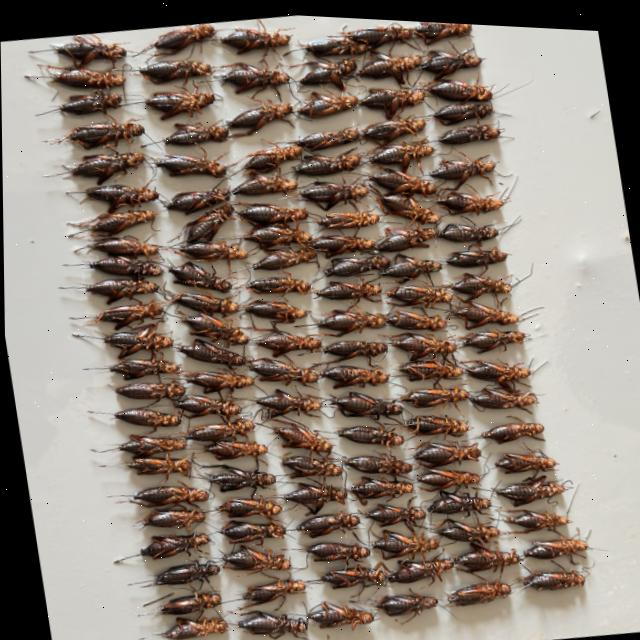egg: (45, 120, 143, 149), (64, 151, 144, 184), (83, 298, 162, 329), (102, 323, 171, 357), (55, 35, 125, 68), (493, 470, 566, 501), (66, 209, 155, 234), (278, 480, 345, 511), (81, 184, 157, 211), (227, 101, 291, 133), (451, 295, 519, 325), (253, 387, 320, 417), (374, 190, 440, 220), (143, 560, 219, 586), (145, 89, 213, 118), (220, 62, 288, 91), (235, 608, 305, 636), (150, 22, 215, 52), (358, 85, 423, 115), (368, 139, 435, 168), (299, 179, 368, 207), (355, 50, 421, 79), (452, 539, 518, 568), (371, 527, 437, 556), (265, 421, 331, 450), (180, 313, 246, 342), (218, 26, 291, 52), (247, 355, 314, 383), (182, 203, 231, 241), (167, 260, 229, 290), (305, 598, 371, 626), (249, 328, 320, 354), (105, 433, 185, 456), (429, 156, 494, 184), (391, 329, 456, 357), (138, 532, 208, 558), (368, 165, 435, 192), (420, 46, 482, 75), (220, 544, 289, 570), (451, 324, 525, 348), (151, 615, 228, 638), (317, 307, 385, 333), (178, 338, 246, 364), (349, 473, 412, 501), (84, 279, 157, 303), (331, 388, 401, 413), (412, 438, 479, 464), (138, 59, 212, 82), (294, 89, 359, 115), (208, 464, 273, 490), (127, 484, 207, 505), (347, 20, 414, 45), (380, 250, 442, 277), (164, 187, 228, 213), (299, 57, 356, 86), (500, 504, 568, 528), (317, 561, 385, 585), (106, 357, 180, 379), (386, 554, 451, 579), (449, 269, 509, 296), (446, 575, 508, 601), (436, 187, 506, 210), (294, 510, 358, 535), (244, 143, 301, 171), (134, 506, 203, 529), (361, 115, 424, 140), (173, 394, 240, 417), (113, 407, 180, 430), (155, 153, 225, 175), (85, 255, 162, 275), (382, 254, 439, 281), (239, 576, 303, 600), (86, 235, 158, 256), (319, 363, 387, 385), (184, 370, 252, 392), (309, 232, 374, 255), (218, 518, 283, 541), (475, 416, 542, 438), (243, 222, 310, 244), (434, 514, 498, 537), (183, 418, 253, 439), (375, 224, 436, 248), (467, 383, 536, 404), (296, 125, 359, 148), (252, 244, 315, 267), (398, 383, 467, 404), (163, 121, 228, 143), (231, 170, 296, 192), (215, 494, 280, 516), (238, 201, 306, 222), (179, 238, 247, 259), (53, 68, 124, 88), (113, 379, 184, 399), (493, 446, 557, 468), (244, 298, 308, 320), (398, 356, 462, 378), (515, 563, 582, 584), (292, 152, 359, 173), (374, 589, 435, 612), (413, 17, 471, 41), (465, 356, 531, 377), (429, 75, 492, 97), (415, 465, 478, 487), (521, 532, 586, 553), (323, 252, 388, 273), (387, 282, 452, 303), (427, 487, 489, 509), (157, 591, 218, 613), (363, 501, 423, 523), (280, 453, 340, 475), (306, 32, 368, 53), (403, 411, 468, 431), (337, 422, 402, 442), (433, 98, 492, 120), (342, 452, 410, 471), (446, 242, 507, 263), (322, 338, 385, 358), (125, 455, 190, 474), (438, 120, 502, 139), (245, 274, 309, 293), (203, 439, 265, 458), (315, 278, 380, 296), (304, 540, 368, 558), (438, 219, 498, 238), (388, 307, 445, 326), (315, 208, 378, 225), (235, 608, 278, 631), (390, 589, 433, 611), (378, 189, 414, 207), (340, 541, 351, 549), (283, 279, 292, 286), (216, 247, 226, 252), (341, 239, 349, 243), (412, 262, 418, 267), (322, 541, 327, 547)
